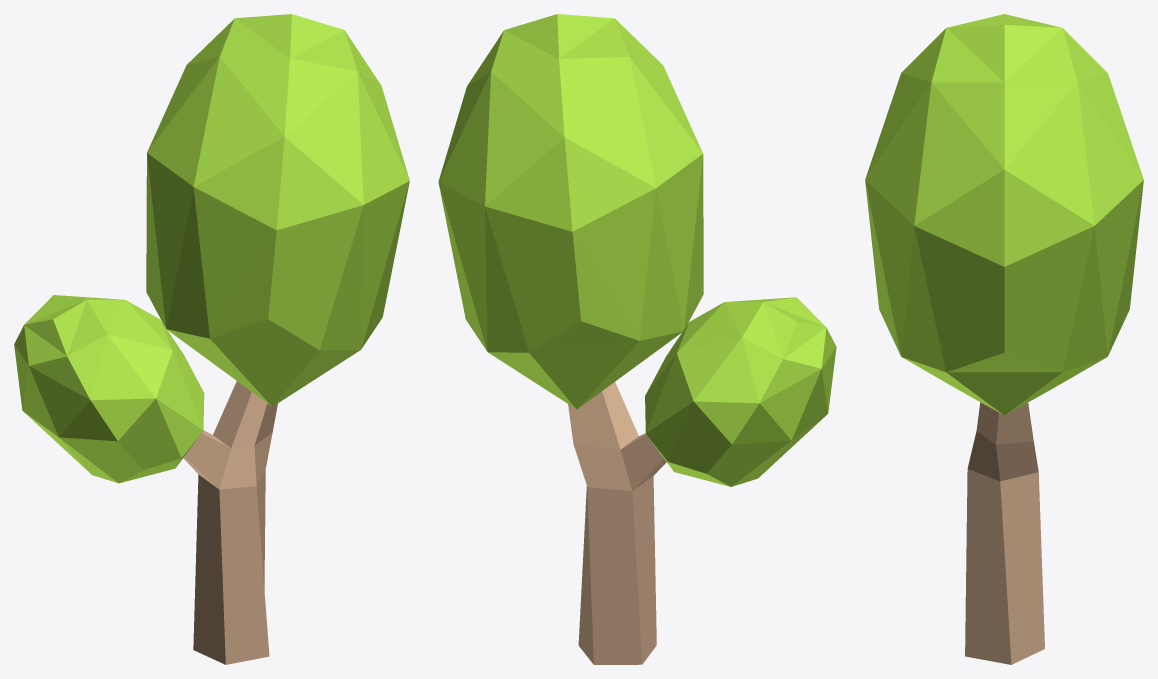
File: tree-library-select-0.glb
3 views of the same model, side by side, from view 1: azimuth 30°, elevation 25°; view 2: azimuth 150°, elevation 25°; view 3: azimuth 270°, elevation 25° (orthographic). The views are drawn at different scales.
Parts seen in each view (by area): view 1: Low poly trees big pack; view 2: Low poly trees big pack; view 3: Low poly trees big pack.
Part boxes in pixels (left/top/right/bottom): Low poly trees big pack: left=14, top=14, right=409, bottom=664; Low poly trees big pack: left=438, top=14, right=836, bottom=664; Low poly trees big pack: left=865, top=14, right=1143, bottom=664.
Size of the model in its own units: 2.73 by 4.42 by 1.71.
